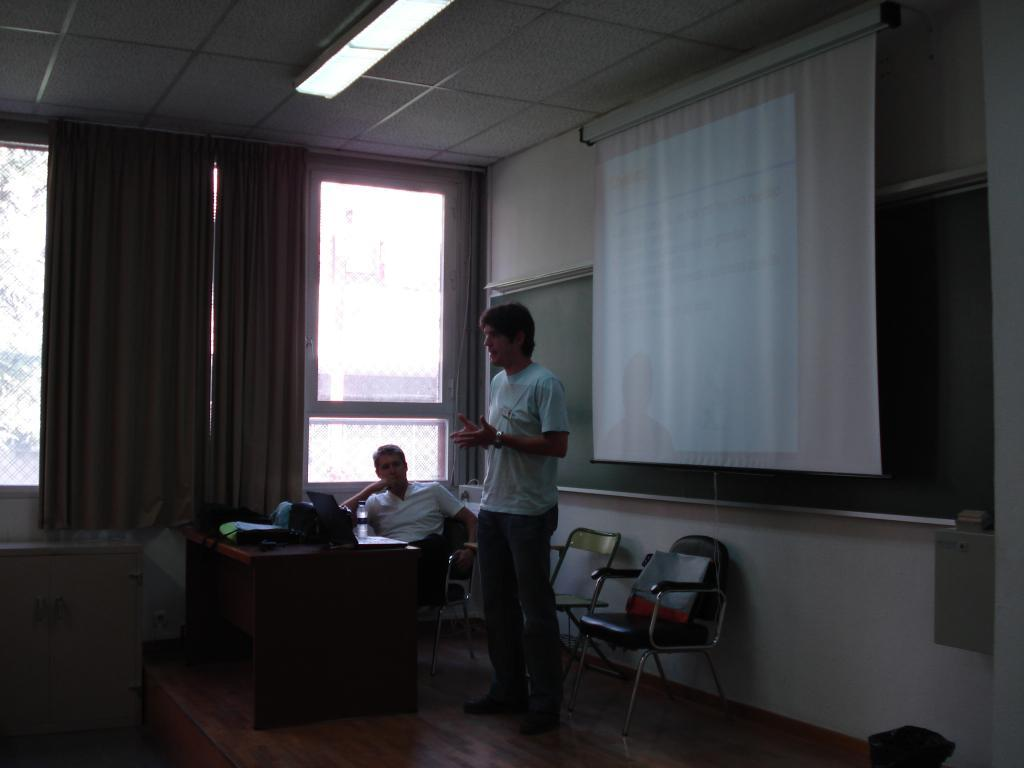Chair: (569, 535, 746, 746), (544, 522, 630, 693), (430, 511, 497, 686)
